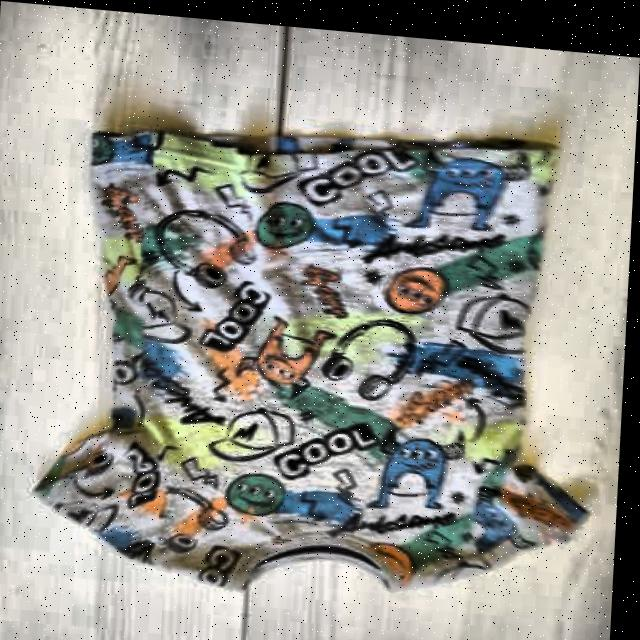clothes: (30, 110, 600, 622)
